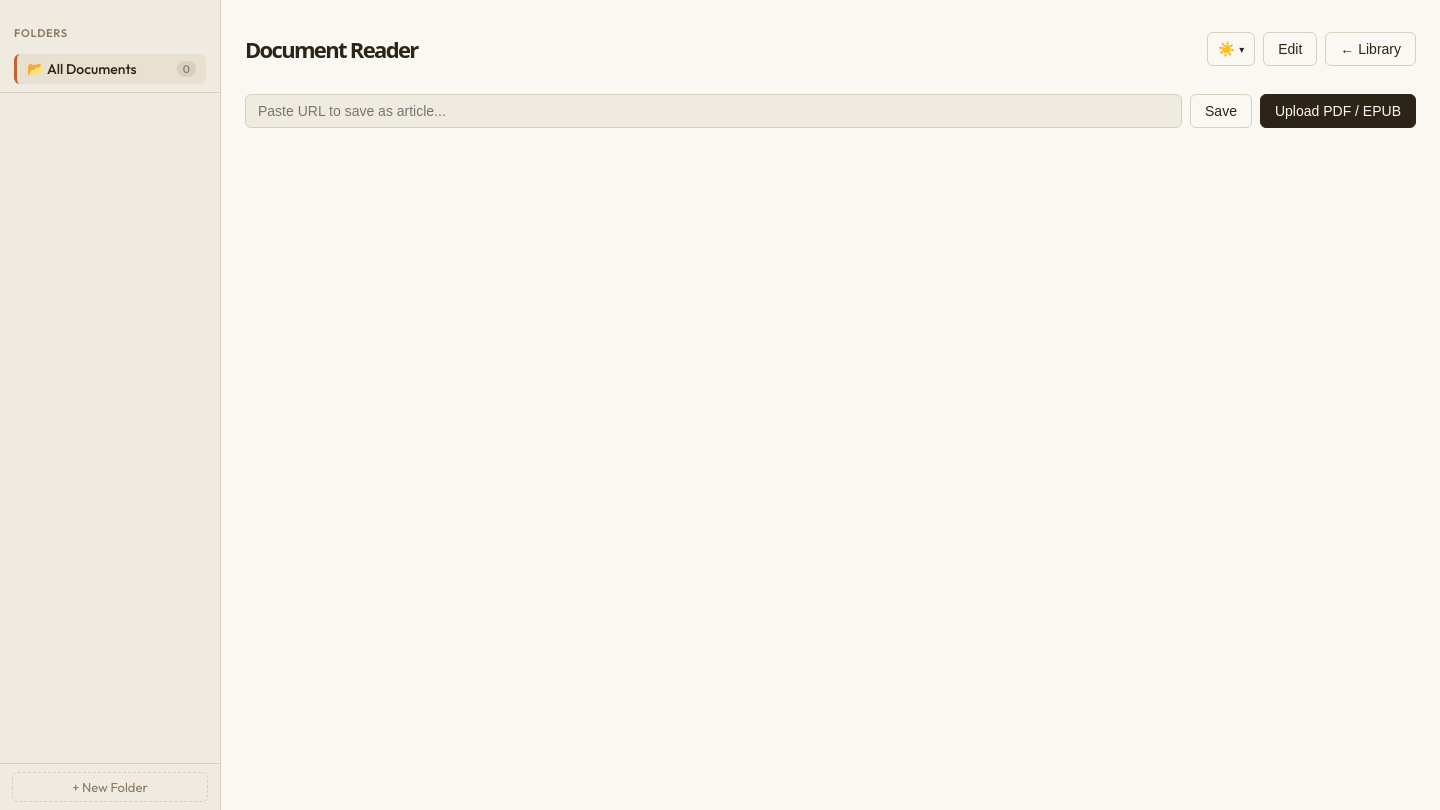
it: Edit button toggles edit mode; Done replaces Edit
Expected: the button "done" is not shown
What coordinates should you click on to do the following:
click the button "Edit"
I would click on:
 (1290, 49)
Its box is x1=1263 y1=32 x2=1317 y2=66.
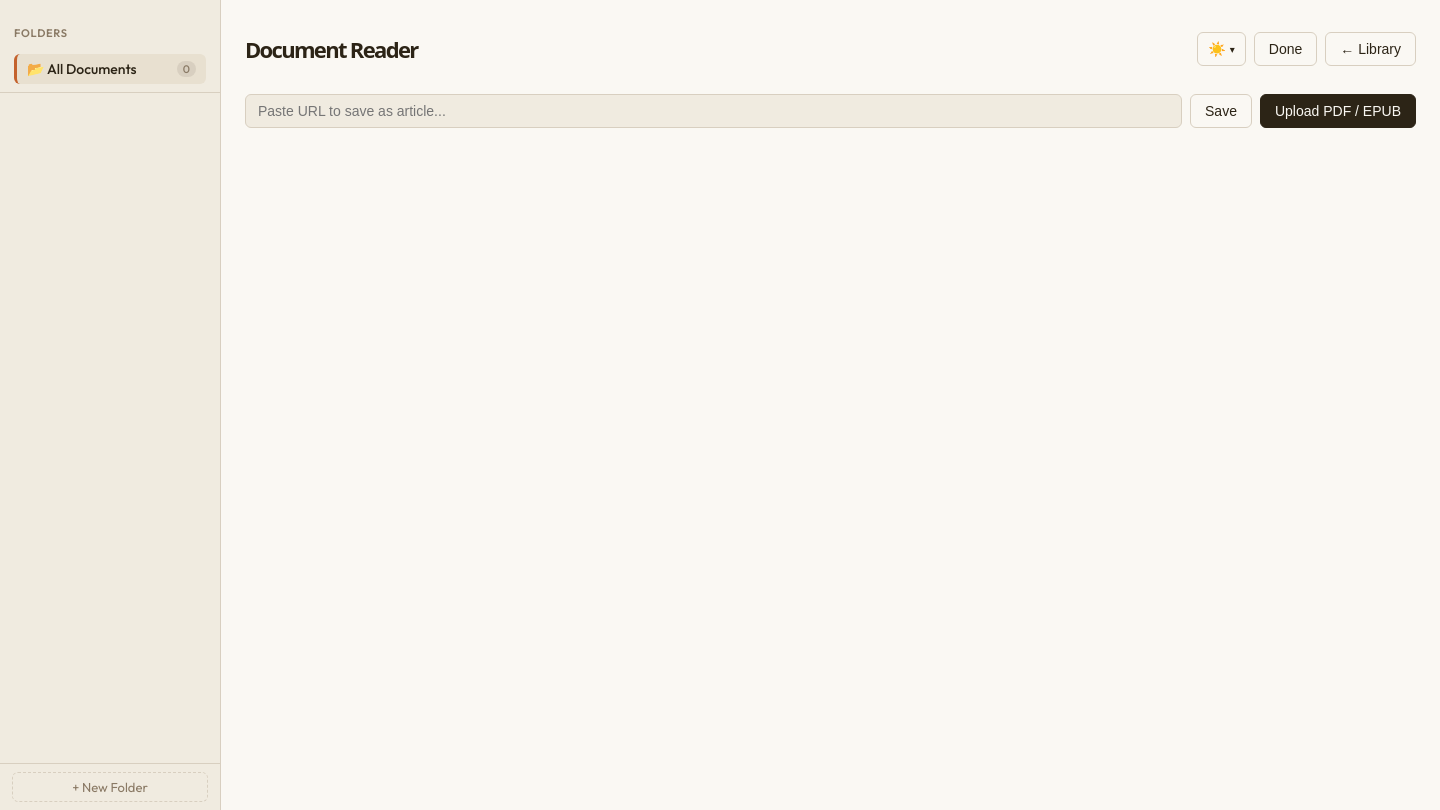
Expected: the button "Done" is shown
Expected: the button "Edit" is gone
What coordinates should you click on to do the following:
click the button "Done"
I would click on:
 (1286, 49)
Its box is x1=1254 y1=32 x2=1317 y2=66.
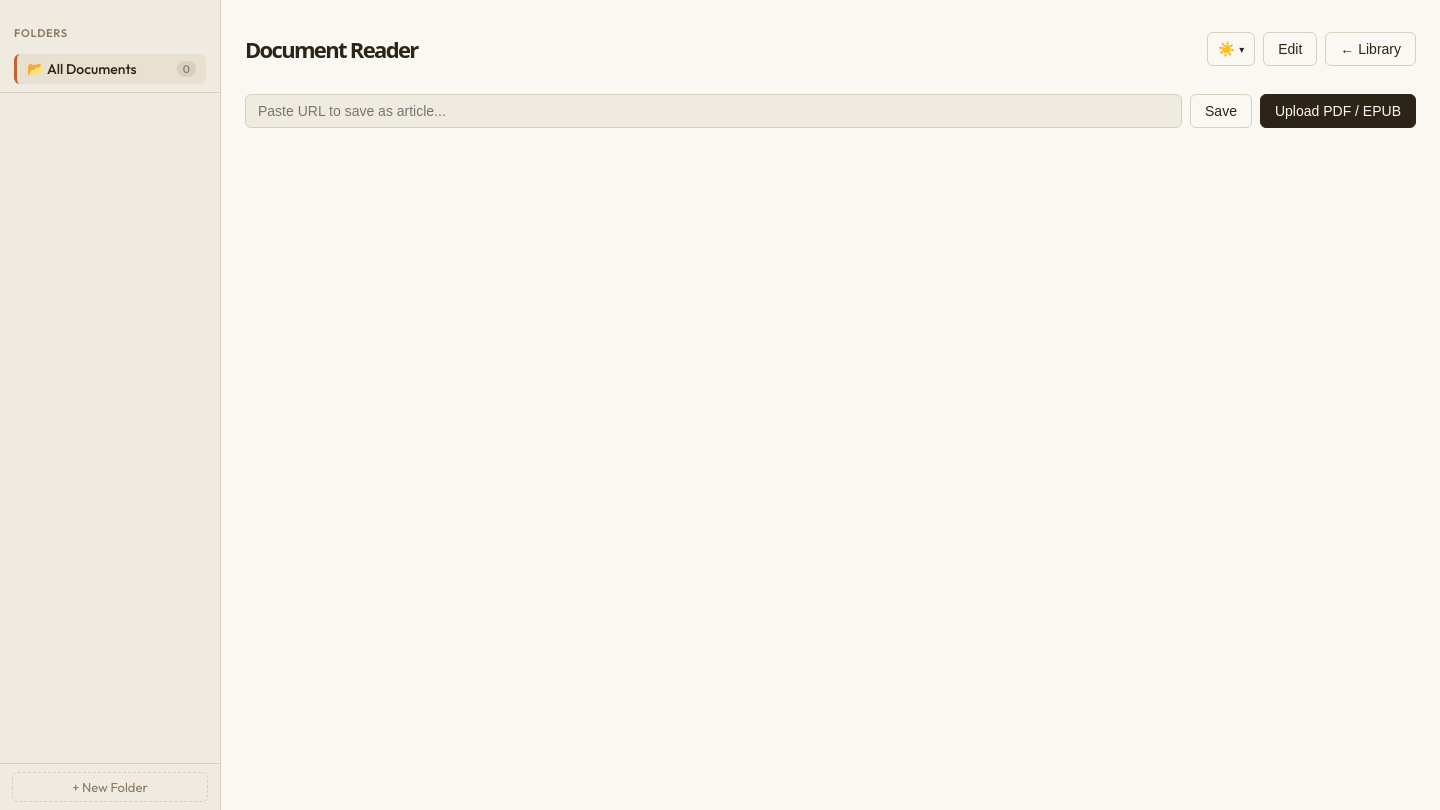
Expected: the button "Edit" is shown, x1=1263 y1=32 x2=1317 y2=66
